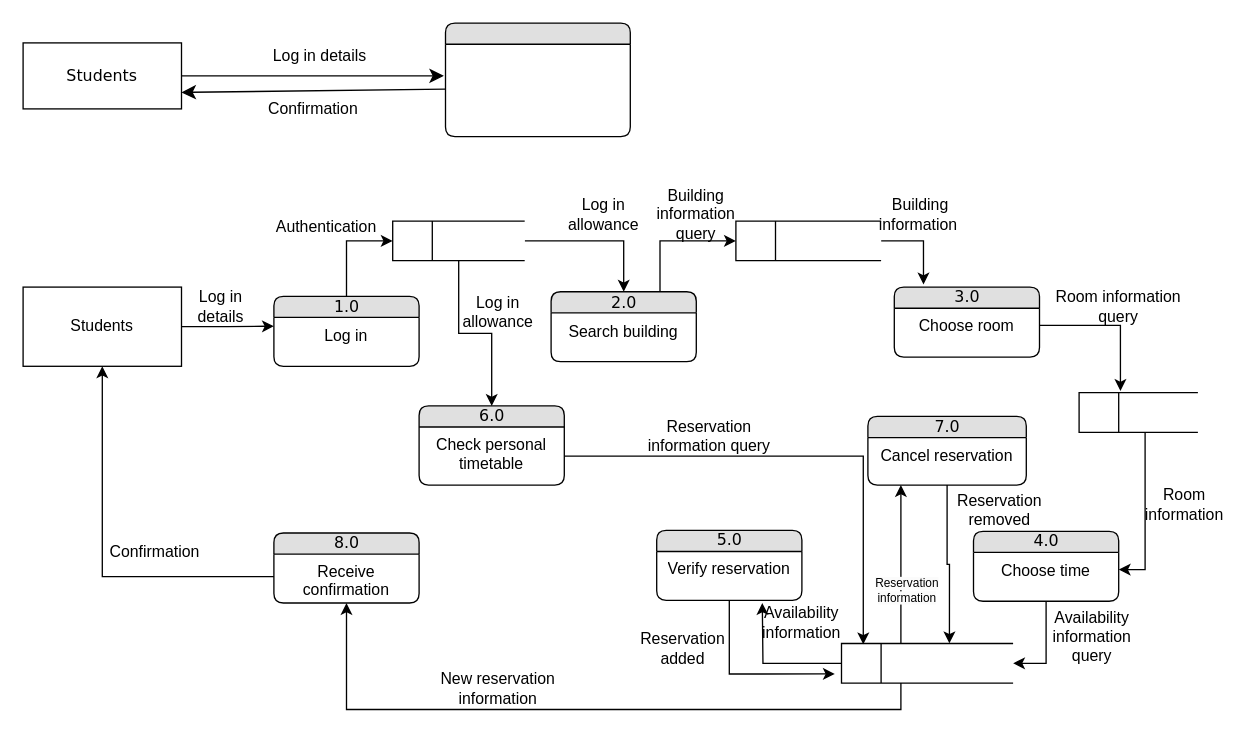
This 1247x743 diagram has some shape labels left out. The shapes that lost their labels are listed below. From the top down, each one's centre as x and y in pixels, then its label:
At (537,79): "Group room booking system".
At (458,240): "Student database".
At (808,240): "Building database".
At (1138,411): "Room database".
At (926,662): "Room timetable database".
